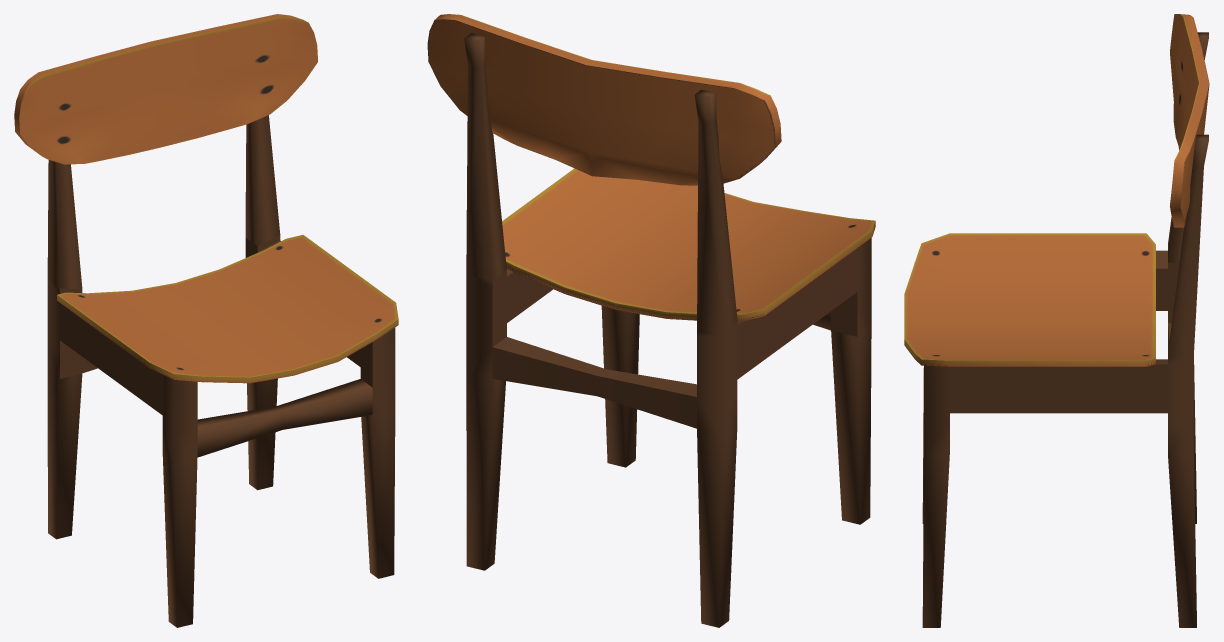
Rendered from ChairModel 1.fbx.
3 renders of one model, left to right at view 1: azimuth 30°, elevation 25°; view 2: azimuth 150°, elevation 25°; view 3: azimuth 270°, elevation 25°, orthographic. The views are drawn at different scales.
Parts seen in each view (by area): view 1: Chair, ChairBack; view 2: Chair, ChairBack; view 3: Chair, ChairBack.
Part boxes in pixels (x1,y1,x2,y2): Chair: [47, 115, 398, 627]; ChairBack: [14, 14, 317, 164]; Chair: [464, 33, 875, 627]; ChairBack: [427, 14, 781, 185]; Chair: [904, 32, 1208, 627]; ChairBack: [1170, 14, 1209, 228].
Size of the model in its own units: 0.5436 by 0.8116 by 0.455.
Materials: 1 (1 with a texture image).
